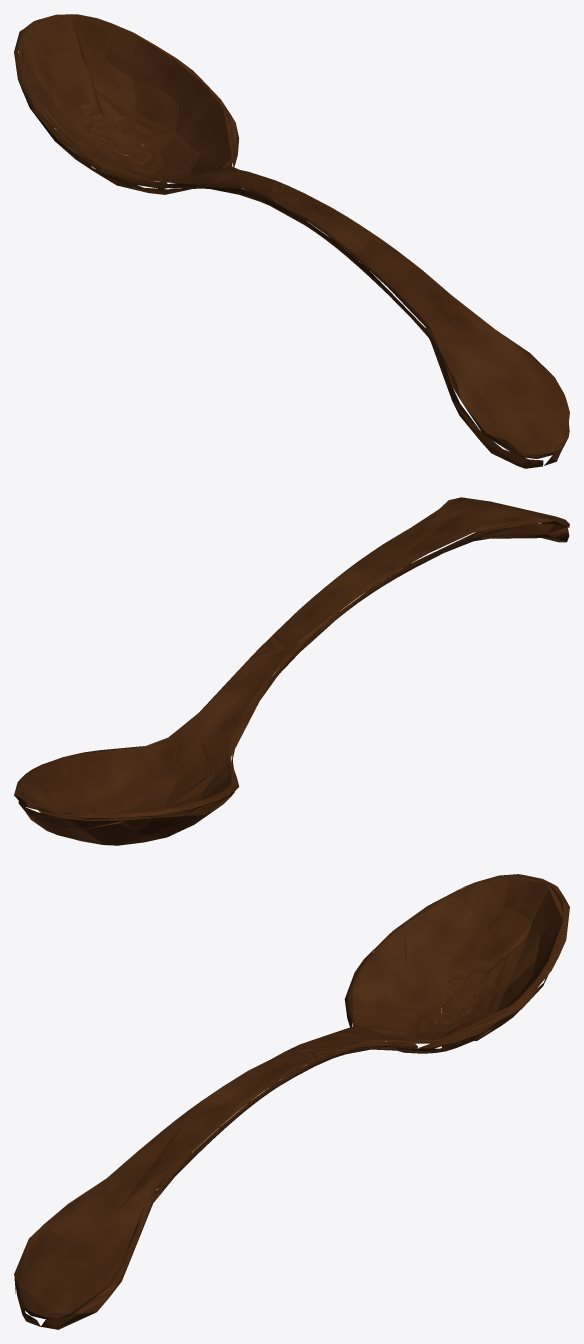
File: kitchenware_spoon_e01.glb
3 renders of one model, top to bottom at view 1: azimuth 30°, elevation 25°; view 2: azimuth 150°, elevation 25°; view 3: azimuth 330°, elevation 25°, orthographic.
Visible parts, largest first — view 1: geometry_0; view 2: geometry_0; view 3: geometry_0.
Boxes of the visible parts, bbox=[...] form: geometry_0: bbox=[14, 14, 569, 468]; geometry_0: bbox=[14, 497, 569, 845]; geometry_0: bbox=[14, 874, 569, 1329].
Bounding box in the file's own units: 0.0798 × 0.0432 × 0.42.
Materials: 1 (1 with a texture image).
